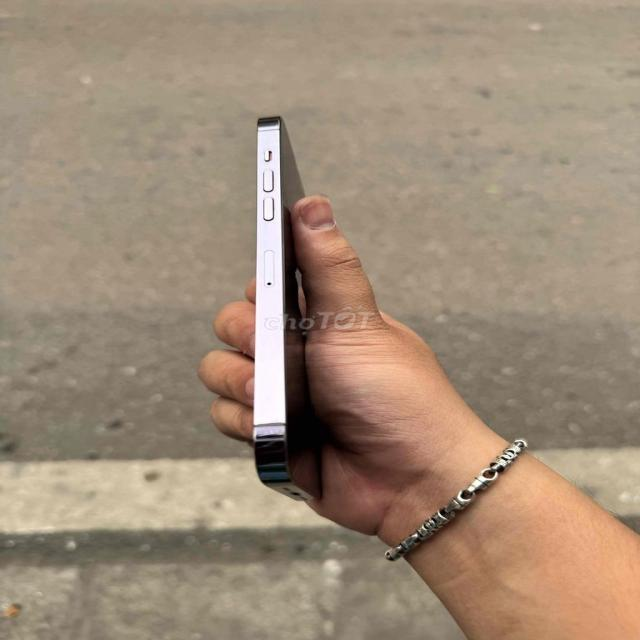gen_14: (247, 107, 323, 511)
